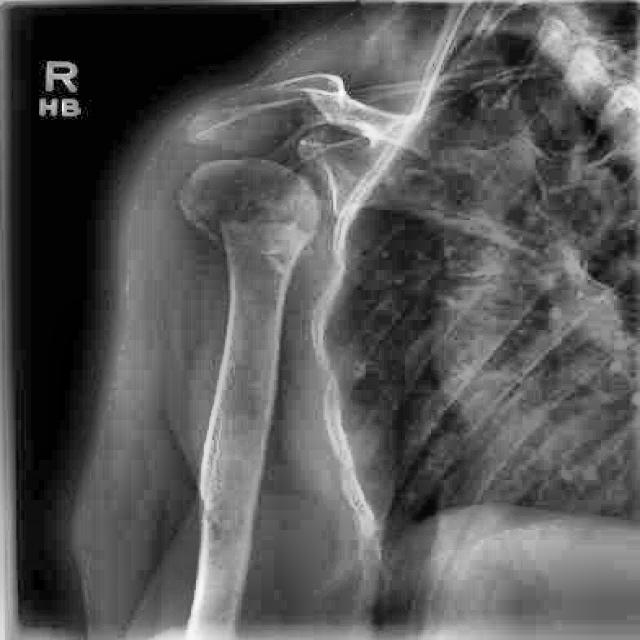shoulder fracture: (167, 202, 306, 295), (278, 65, 378, 129)
